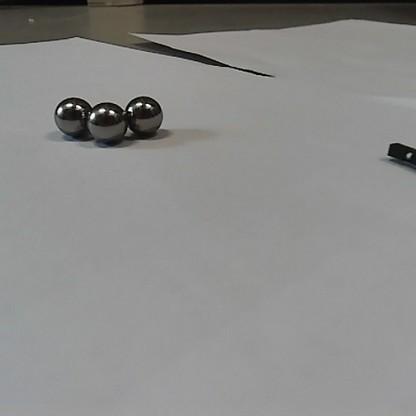ironball: (84, 100, 128, 146), (124, 93, 165, 138), (53, 96, 93, 137)
